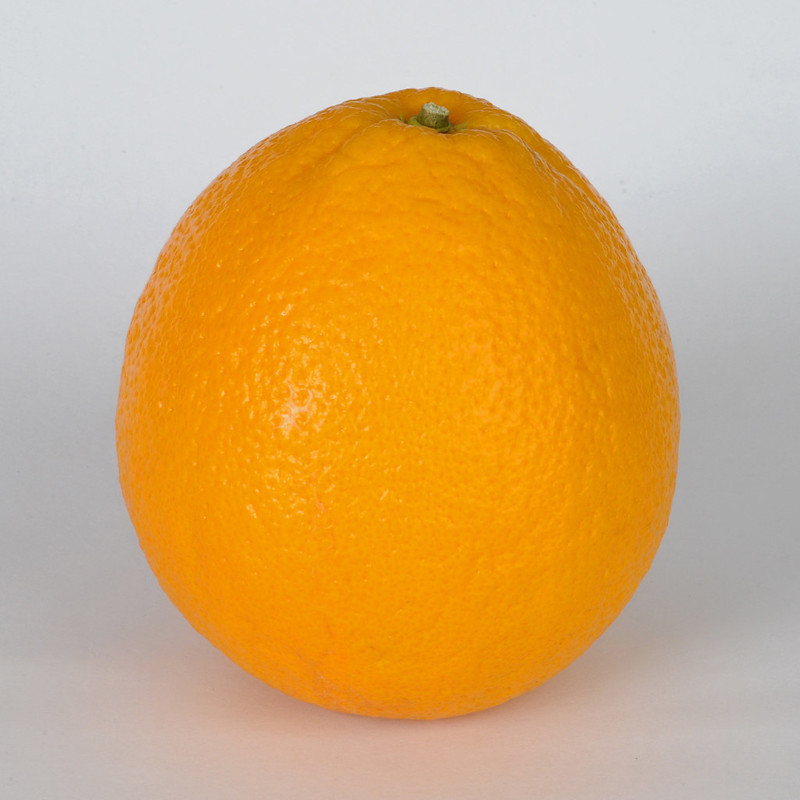orange: (113, 86, 687, 732)
